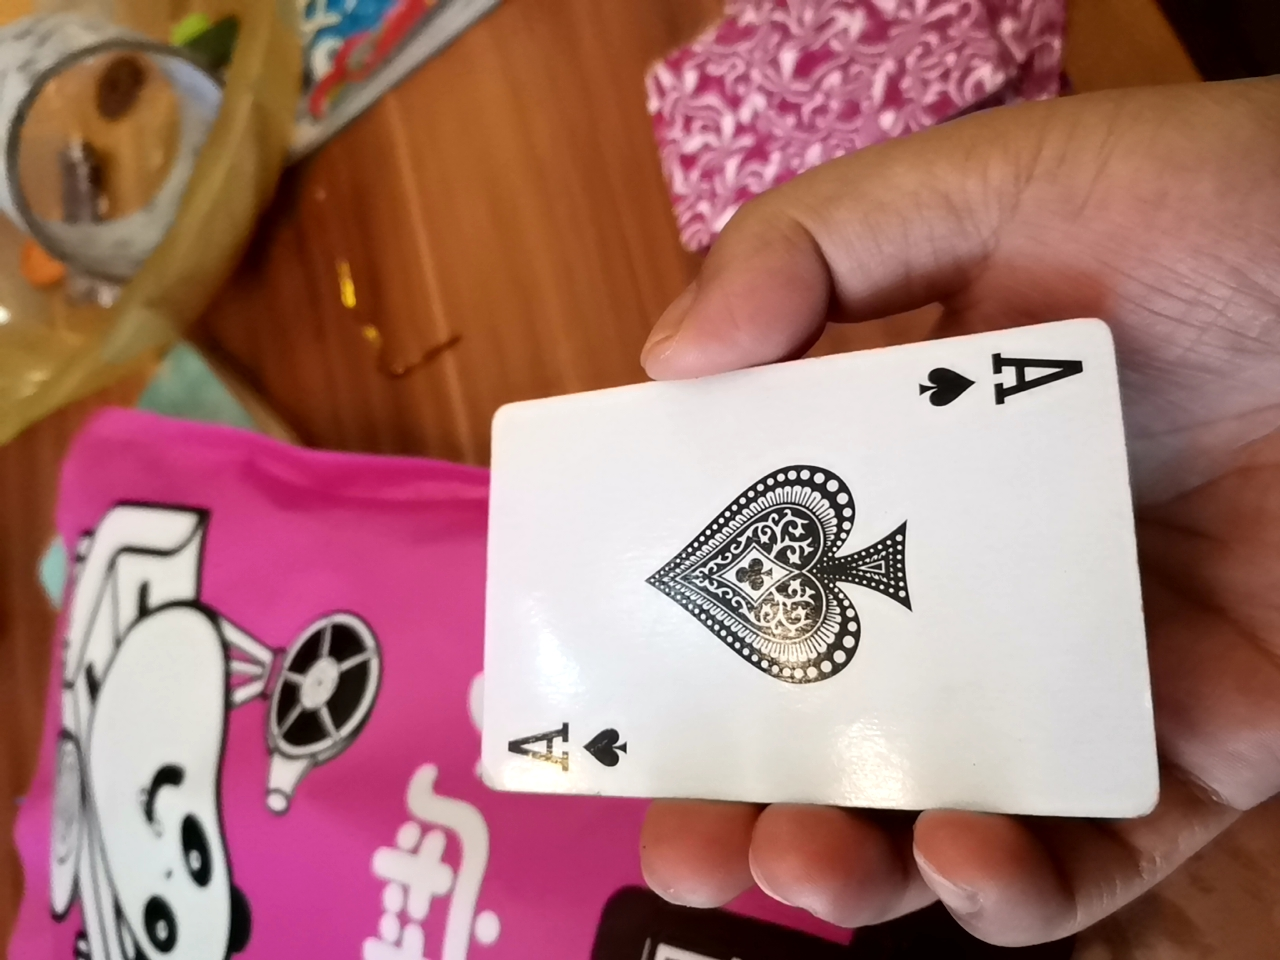ht a: (458, 321, 1179, 822)
